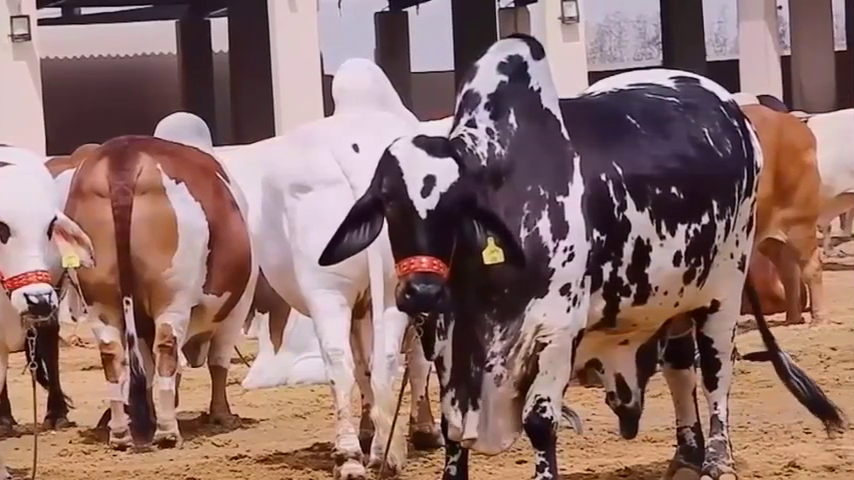bo: (302, 33, 854, 479), (237, 47, 455, 480), (60, 101, 254, 449), (1, 141, 100, 432), (713, 90, 824, 329), (777, 85, 854, 225)
